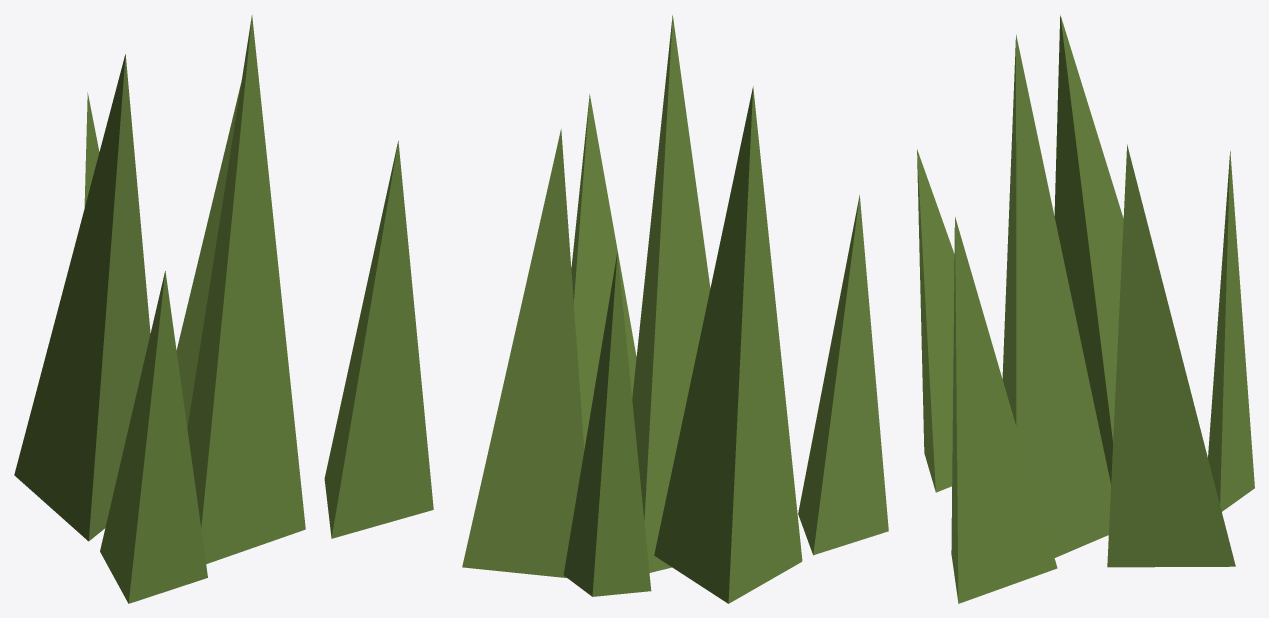
Rendered from grass_9.fbx.
3 renders of one model, left to right at view 1: azimuth 30°, elevation 25°; view 2: azimuth 150°, elevation 25°; view 3: azimuth 270°, elevation 25°, orthographic. The views are drawn at different scales.
Parts seen in each view (by area): view 1: Grass_09; view 2: Grass_09; view 3: Grass_09.
Part boxes in pixels (x1,y1,x2,y2): Grass_09: (14, 15, 433, 603); Grass_09: (462, 15, 888, 603); Grass_09: (917, 15, 1254, 603).
Bounding box in the file's own units: 142 × 224 × 133.
Materials: 1 (1 with a texture image).
